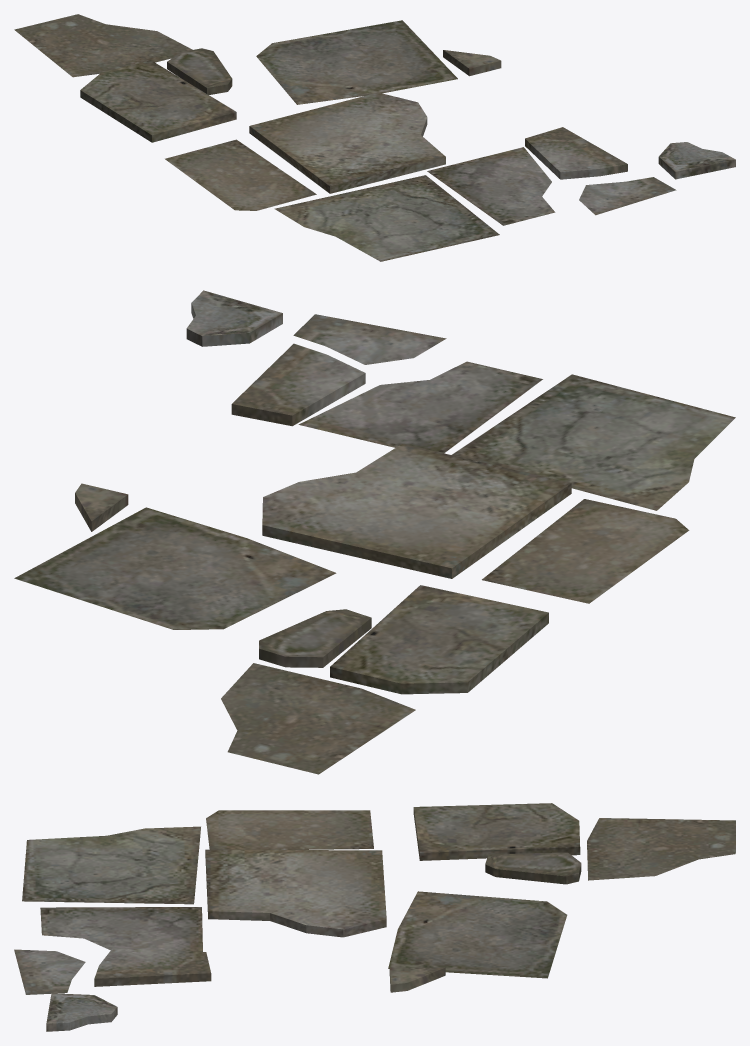
The model's file is bg_lut_lutomb_brick03_sm_old.FBX.
3 renders of one model, top to bottom at view 1: azimuth 30°, elevation 25°; view 2: azimuth 150°, elevation 25°; view 3: azimuth 270°, elevation 25°, orthographic. The views are drawn at different scales.
Visible parts, largest first — view 1: bg_lut_lutomb_brick03_sm_old; view 2: bg_lut_lutomb_brick03_sm_old; view 3: bg_lut_lutomb_brick03_sm_old.
Part boxes in pixels (x1=…): bg_lut_lutomb_brick03_sm_old: x1=14, y1=14, x2=735, y2=261; bg_lut_lutomb_brick03_sm_old: x1=14, y1=290, x2=735, y2=774; bg_lut_lutomb_brick03_sm_old: x1=14, y1=803, x2=735, y2=1031.
Size of the model in its own units: 188 by 3.18 by 259.
